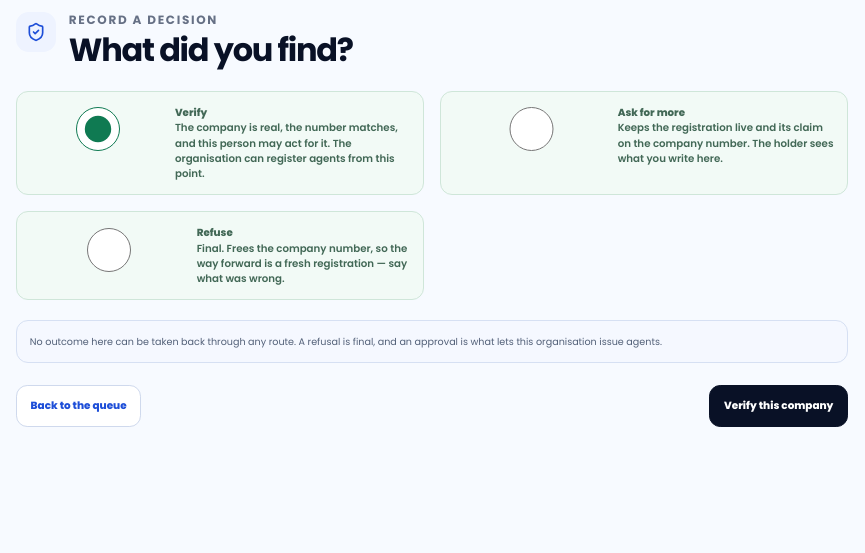
Test case: ReviewDecisionForm › labels the button for the outcome, not with a template
The width and height of the screenshot is (865, 553).
Check: the button "Verify this company" is shown, box [710,385,848,427]
Click the radio button labelled "Ask for more". click: (531, 129)
box: [454,107,609,151]
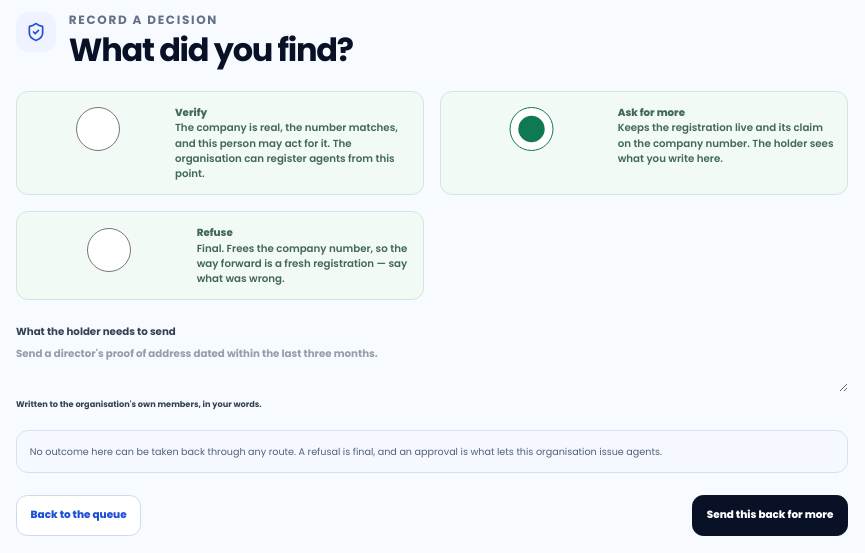
Check: the button "Send this back for more" is shown, box [692,495,848,536]
Click the radio button labelled "Refuse". click: (109, 250)
box: [30,228,188,272]
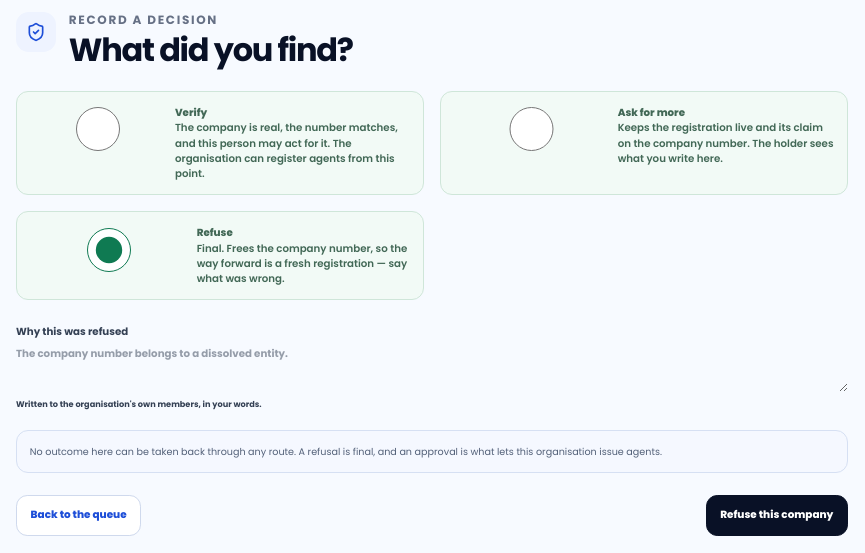
Check: the button "Refuse this company" is shown, box [706,495,848,536]
